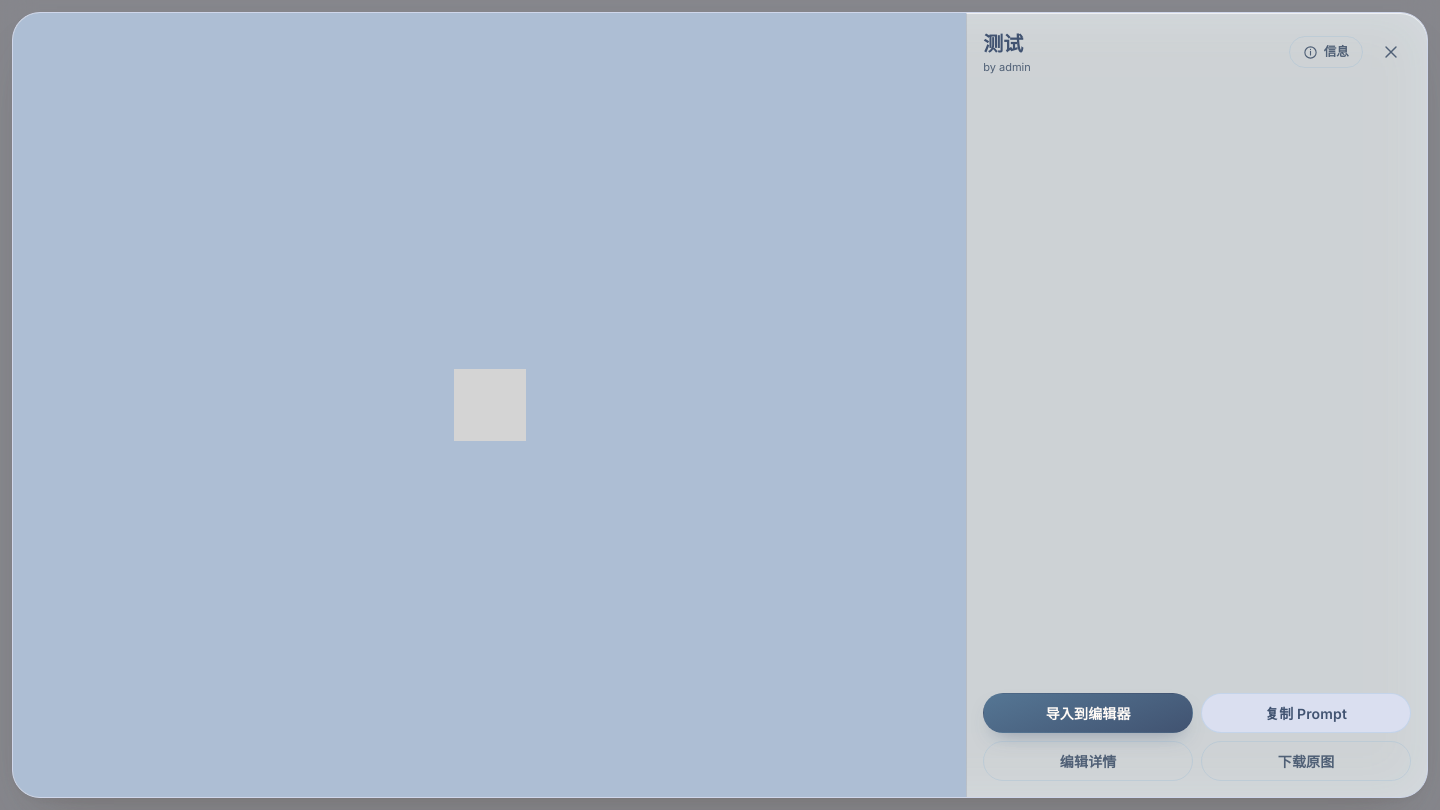
InspirationLightbox › 点信息弹出整屏参数，可关闭
The width and height of the screenshot is (1440, 810).
Click the button "信息" at (1326, 52), box [1289,36,1363,68]
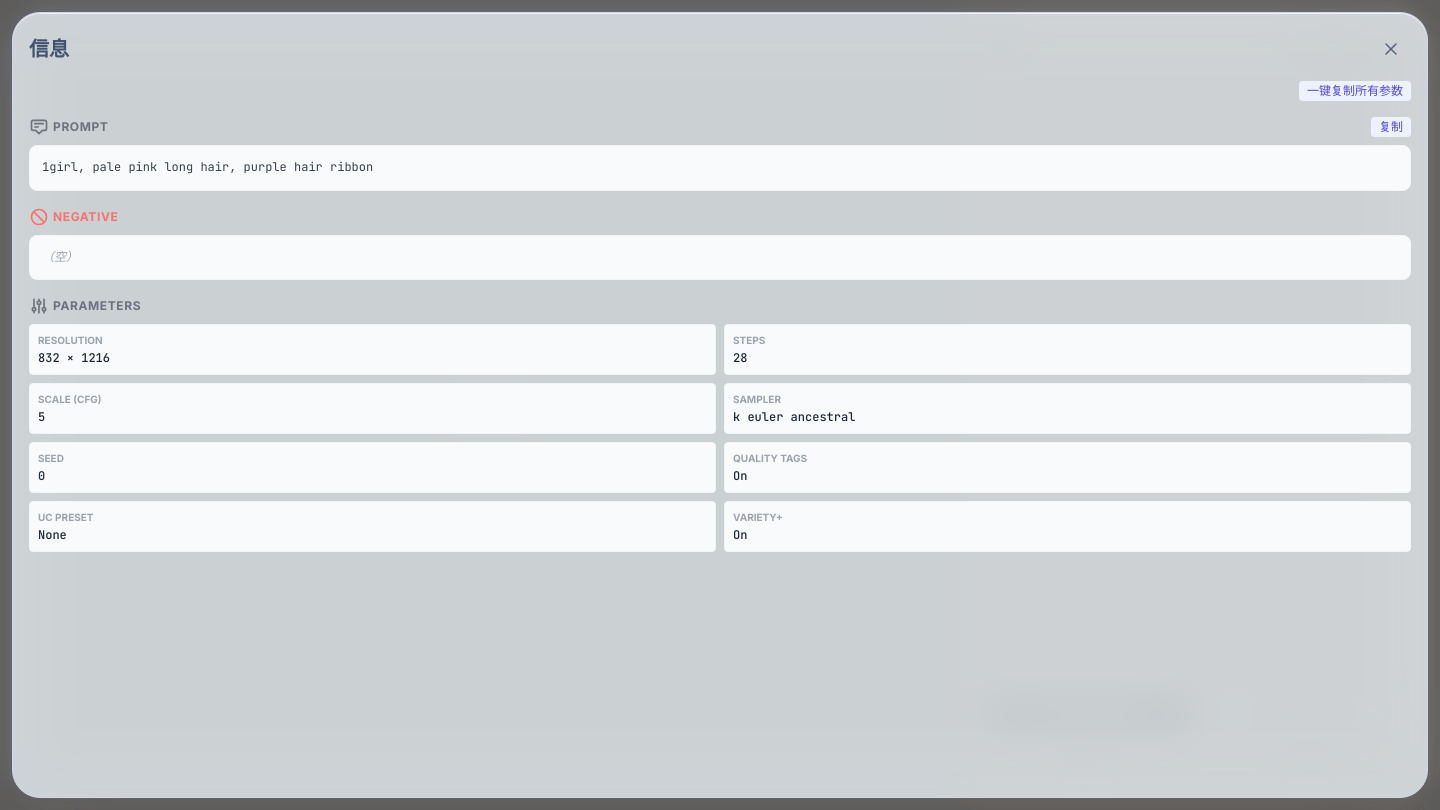
Check: the text "1girl, pale pink long hair, purple hair ribbon" is shown, box [29,145,1411,190]
Check: the button "一键复制所有参数" is shown, box [1299,81,1411,101]
Check: the text "832 × 1216" is shown, box [38,350,110,366]
Click the button named "关闭信息" at (1391, 49), box [1371,29,1411,69]
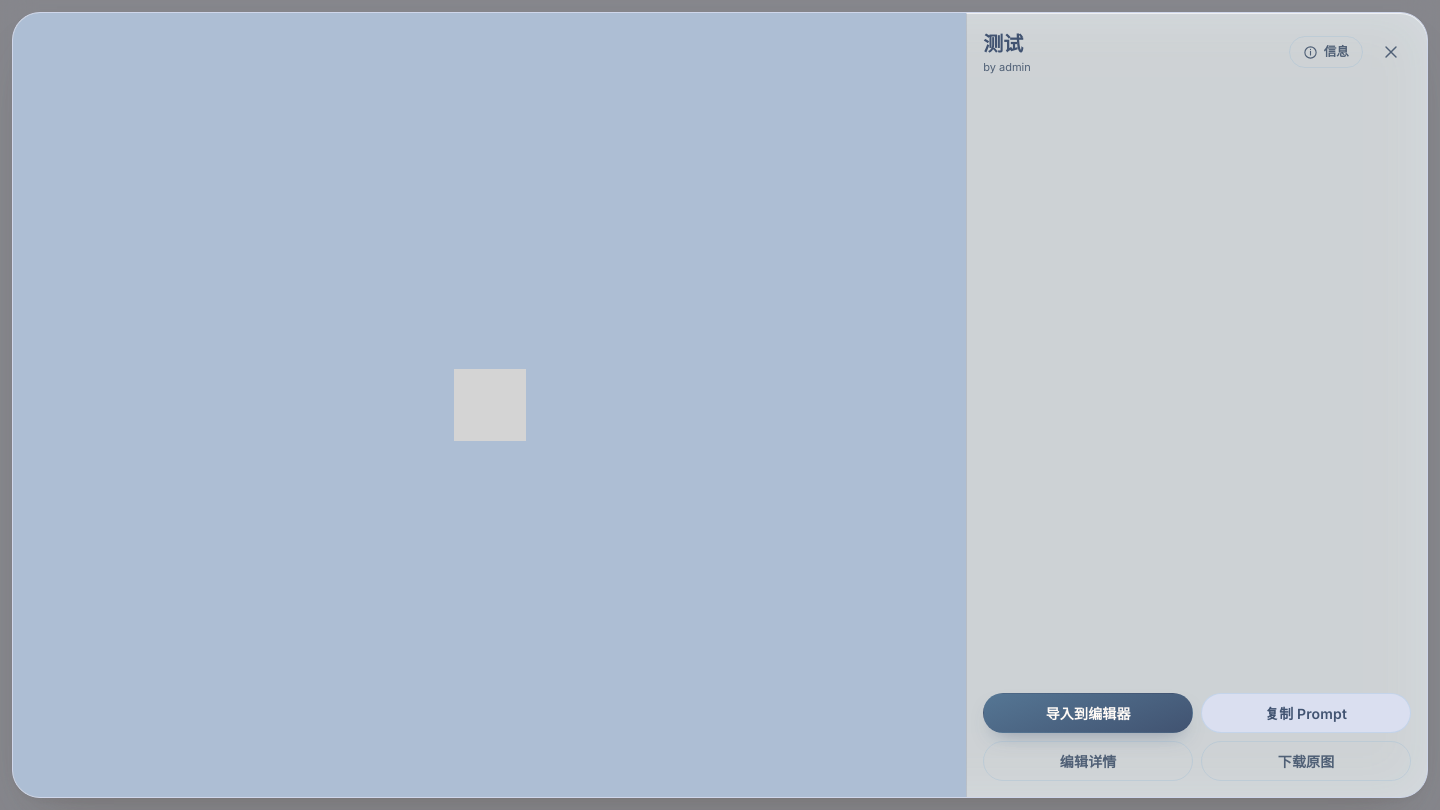
Check: the text "pale pink long hair" is gone
